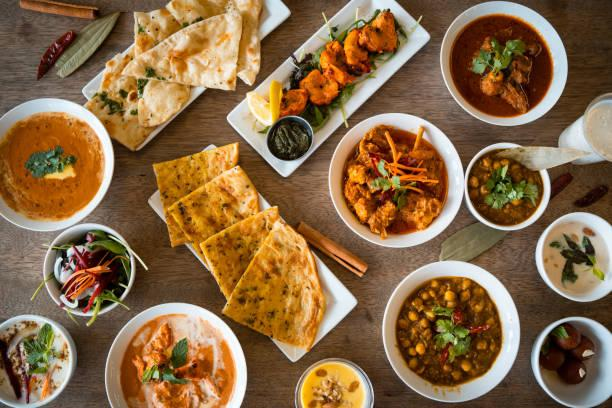Braised Crucian Carp: (157, 141, 333, 351), (232, 0, 439, 163), (80, 1, 282, 154), (382, 261, 521, 405), (329, 112, 461, 248), (440, 1, 569, 130), (1, 97, 114, 233), (104, 303, 246, 406)
